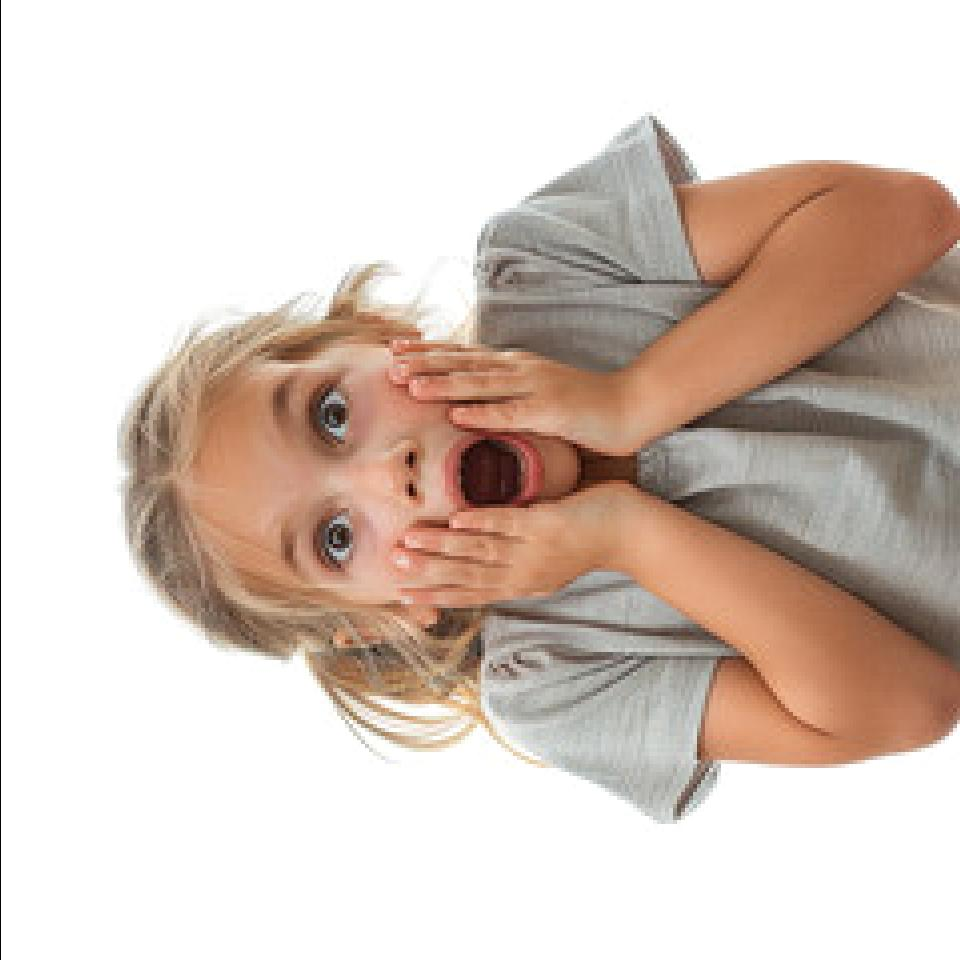Scared: (250, 334, 572, 615)
